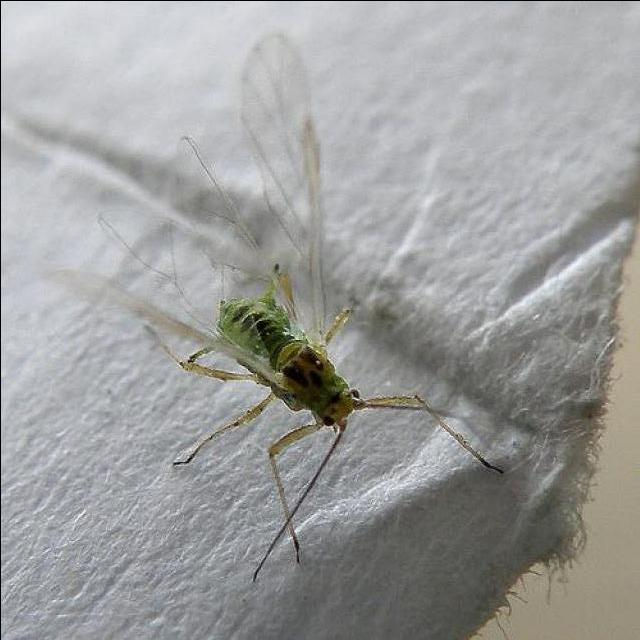aphid: (160, 178, 434, 456)
